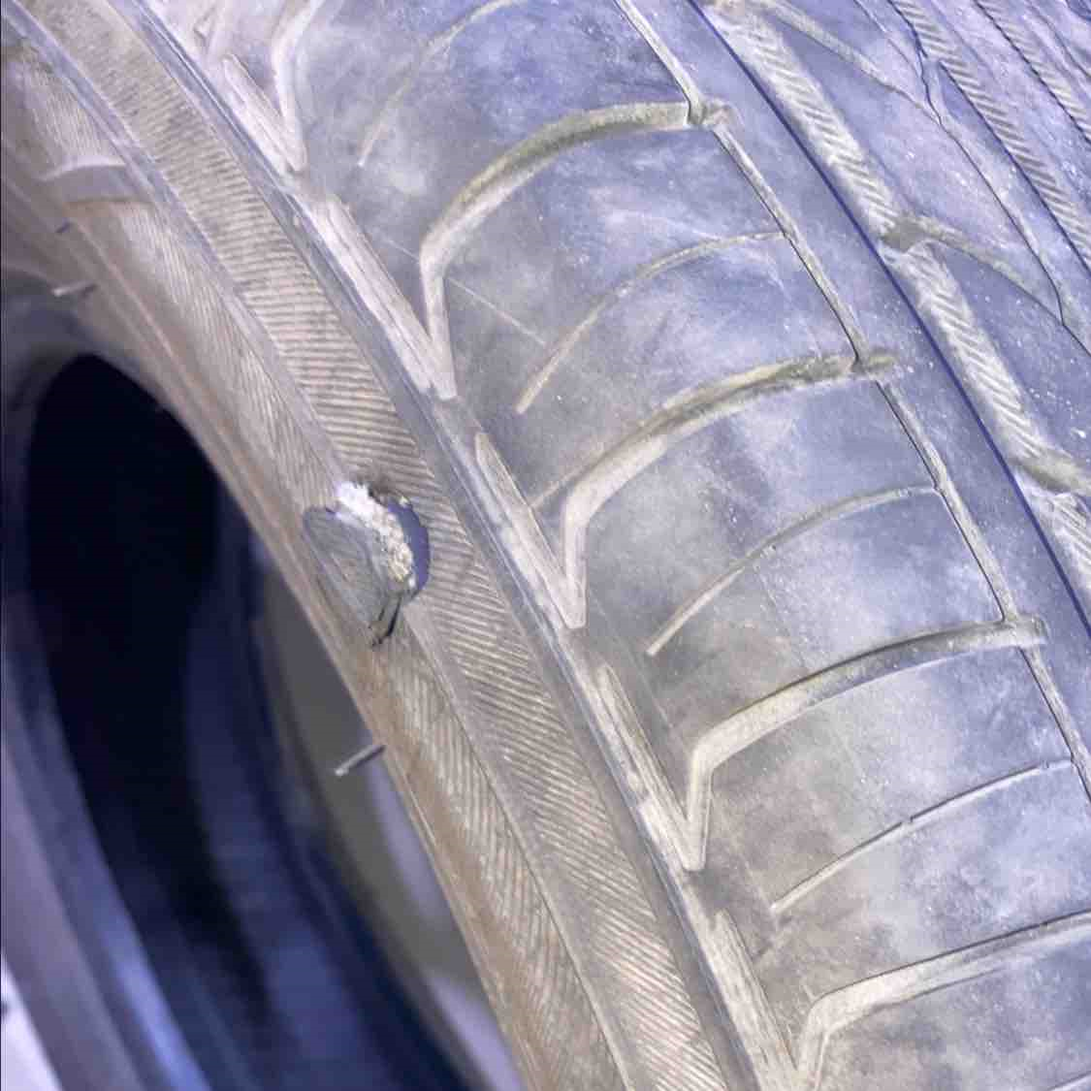cut: (333, 481, 444, 652)
